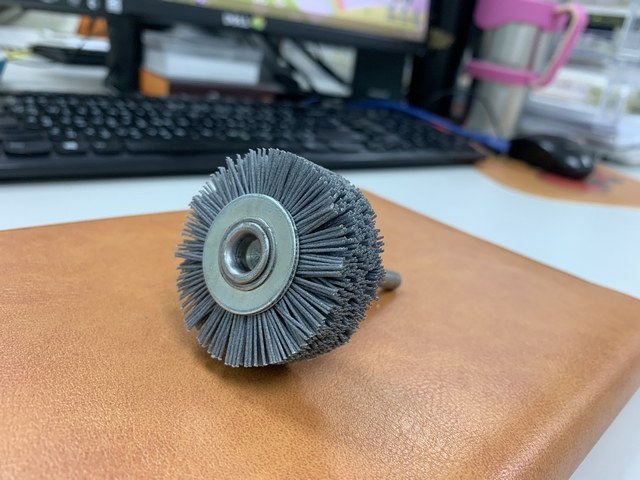Wheel Brush: (168, 142, 432, 380), (189, 156, 391, 353)
